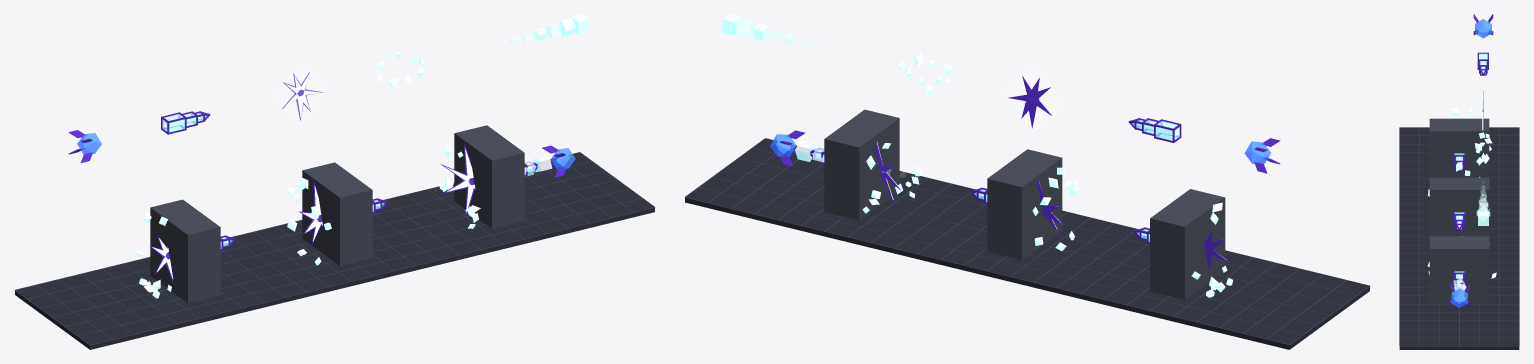
The model's file is fx_spellpierce.glb.
3 views of the same model, side by side, from view 1: azimuth 30°, elevation 25°; view 2: azimuth 150°, elevation 25°; view 3: azimuth 270°, elevation 25° (orthographic). The views are drawn at different scales.
Parts seen in each view (by area): view 1: Ground, Enemy_01, Enemy_02, Enemy_03, Beauty_Puncture_Flash_01, Beauty_Trail, Grid_Z_07, Grid_Z_06, Grid_Z_05, Grid_Z_04, Grid_Z_03; view 2: Ground, Enemy_01, Enemy_02, Enemy_03, Beauty_Puncture_Flash_01, Beauty_Trail, Grid_Z_01, Grid_Z_02, Grid_Z_03, Grid_Z_04, Grid_Z_05, Beauty_Lance_01_Rim (+1 smaller); view 3: Ground, Enemy_03, Enemy_01, Enemy_02, Beauty_Trail, Orb_Shell, Beauty_Orb_Shell, Grid_X_24, Grid_Z_01, Grid_Z_02, Grid_Z_06, Grid_Z_07 (+12 smaller).
Boxes of the visible parts, x1,y1,x2,y2 form: Ground: (15, 153, 654, 349); Enemy_01: (150, 199, 220, 302); Enemy_02: (302, 162, 372, 265); Enemy_03: (454, 125, 524, 228); Beauty_Puncture_Flash_01: (270, 60, 332, 125); Beauty_Trail: (497, 14, 589, 45); Grid_Z_07: (90, 207, 654, 345); Grid_Z_06: (77, 198, 642, 335); Grid_Z_05: (65, 189, 629, 326); Grid_Z_04: (52, 179, 617, 317); Grid_Z_03: (40, 170, 604, 308); Ground: (685, 139, 1369, 349); Enemy_01: (1150, 189, 1225, 299); Enemy_02: (987, 149, 1062, 259); Enemy_03: (824, 109, 899, 220); Beauty_Puncture_Flash_01: (999, 62, 1066, 132); Beauty_Trail: (722, 14, 821, 48); Grid_Z_01: (685, 197, 1289, 344); Grid_Z_02: (698, 187, 1302, 335); Grid_Z_03: (712, 177, 1315, 325); Grid_Z_04: (725, 167, 1329, 315); Grid_Z_05: (738, 158, 1342, 305); Beauty_Lance_01_Rim: (1134, 118, 1181, 142); Ground: (1399, 127, 1519, 349); Enemy_03: (1429, 236, 1489, 303); Enemy_01: (1429, 118, 1489, 177); Enemy_02: (1429, 177, 1489, 236); Beauty_Trail: (1476, 185, 1490, 225); Orb_Shell: (1450, 288, 1468, 307); Beauty_Orb_Shell: (1475, 19, 1491, 38); Grid_X_24: (1400, 320, 1518, 321); Grid_Z_01: (1519, 127, 1519, 346); Grid_Z_02: (1499, 127, 1499, 346); Grid_Z_06: (1419, 127, 1419, 346); Grid_Z_07: (1399, 127, 1399, 346).
Size of the model in its own units: 26.04 by 8.27 by 6.04.
